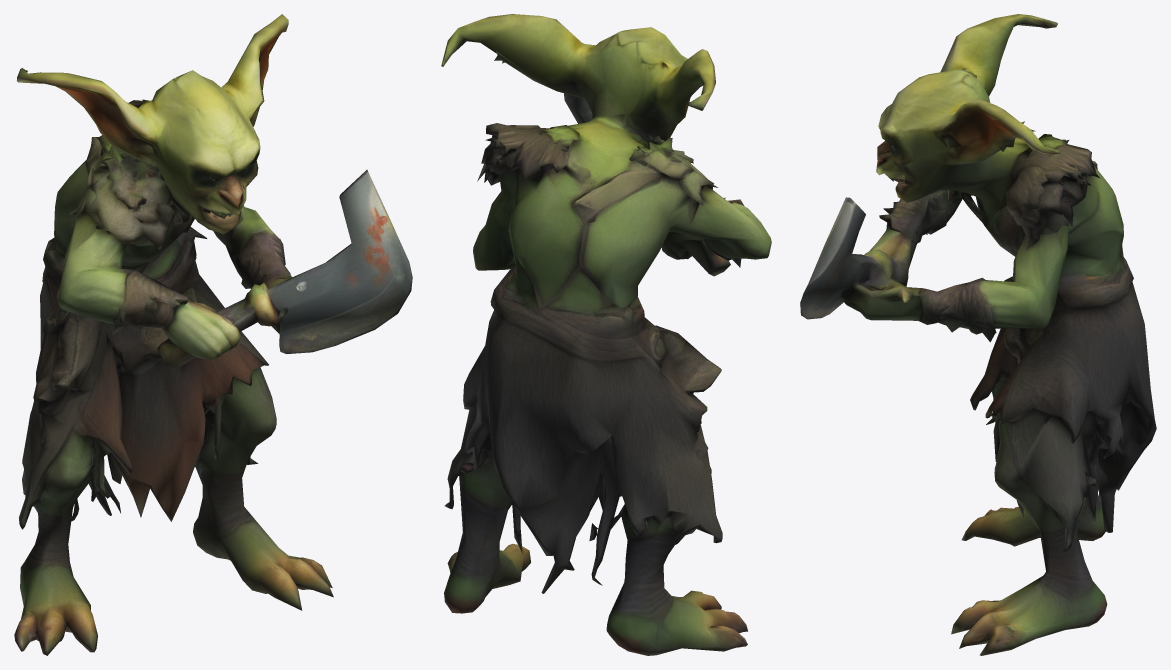
The model's file is goblin.glb.
3 views of the same model, side by side, from view 1: azimuth 30°, elevation 25°; view 2: azimuth 150°, elevation 25°; view 3: azimuth 270°, elevation 25° (orthographic). The views are drawn at different scales.
Bounding box in the file's own units: 1.11 × 2 × 1.24.
1 material, 1 textured.
